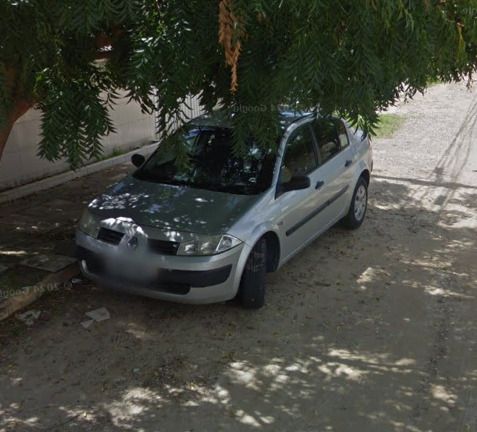car: (74, 101, 375, 314)
